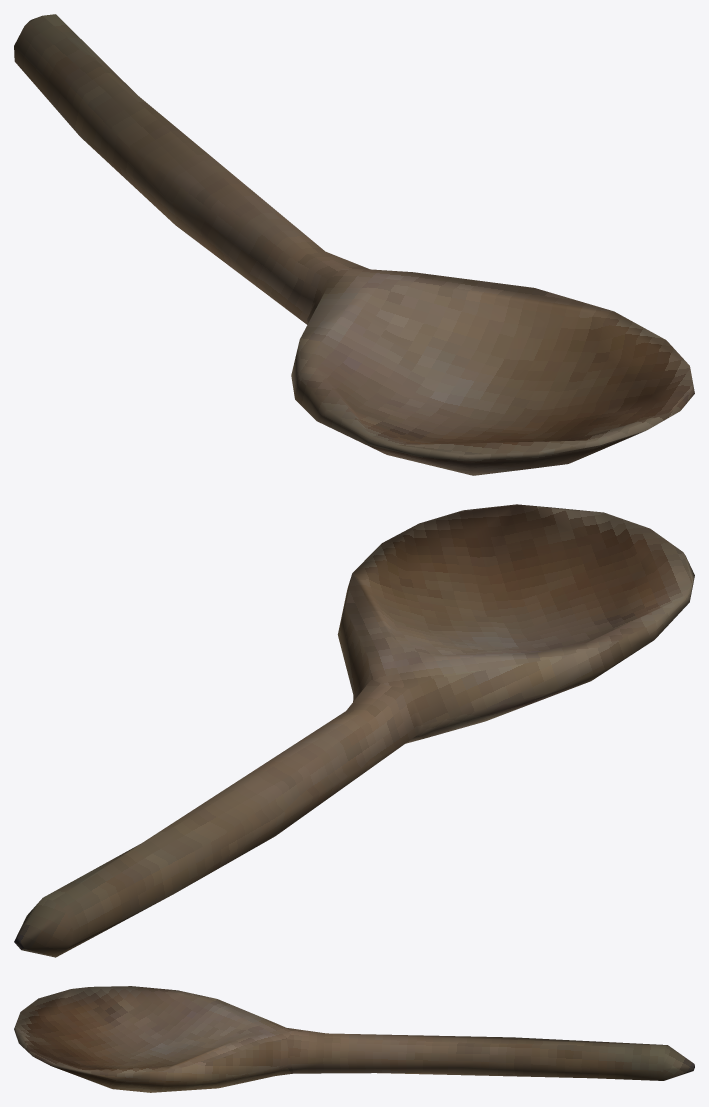
The model's file is spoon.glb.
3 renders of one model, top to bottom at view 1: azimuth 30°, elevation 25°; view 2: azimuth 150°, elevation 25°; view 3: azimuth 270°, elevation 25°, orthographic. The views are drawn at different scales.
Visible parts, largest first — view 1: wooden_spoon; view 2: wooden_spoon; view 3: wooden_spoon.
Boxes of the visible parts, left/top/right/bottom form: wooden_spoon: left=14, top=14, right=694, bottom=475; wooden_spoon: left=14, top=504, right=694, bottom=957; wooden_spoon: left=14, top=986, right=694, bottom=1092.
Bounding box in the file's own units: 0.0863 × 0.025 × 0.2769.
Materials: 1 (1 with a texture image).
